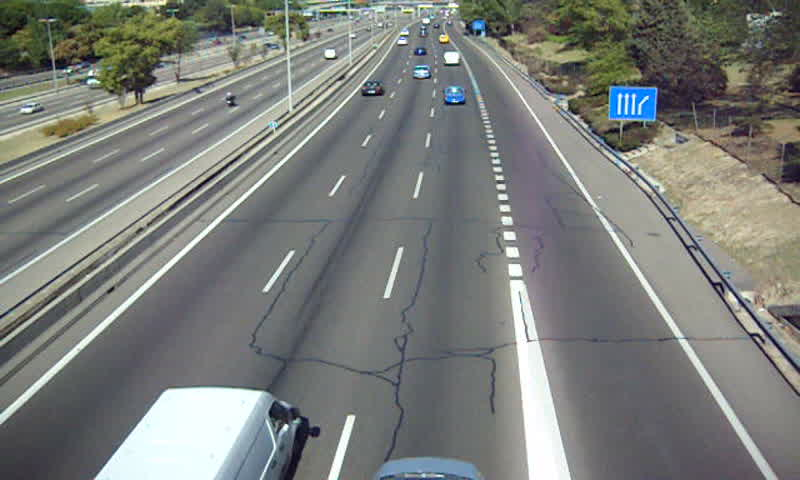car: (359, 81, 385, 98), (443, 87, 466, 105), (411, 64, 430, 79)
van: (91, 388, 301, 480), (442, 52, 461, 66)
